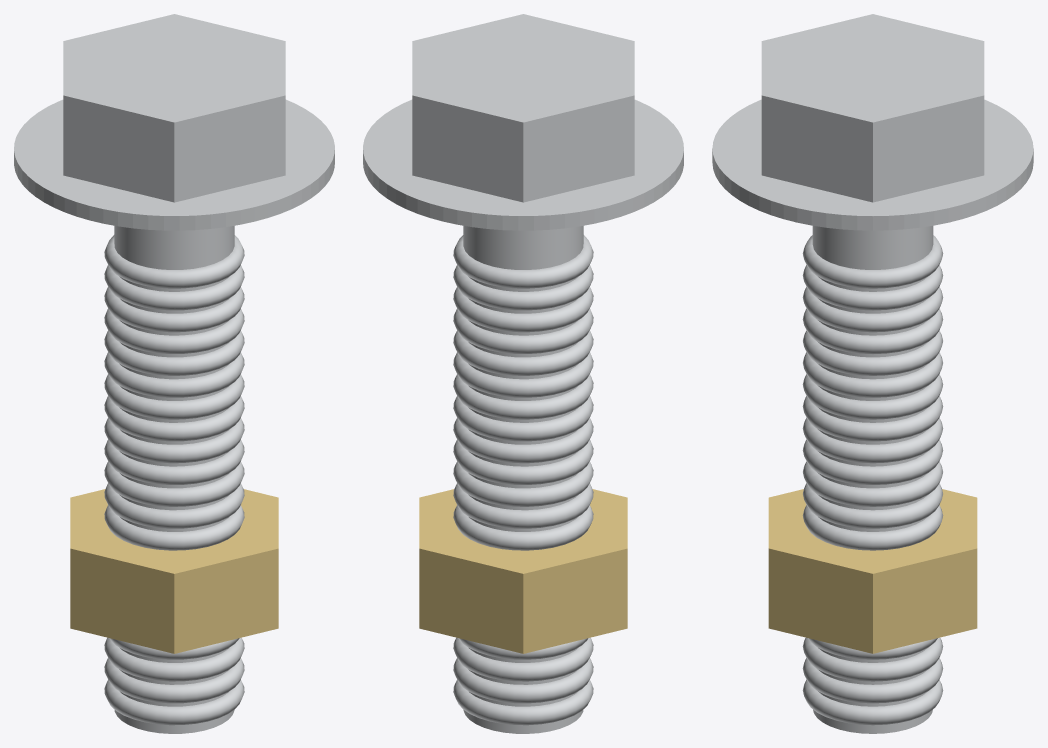
The model's file is tornillo_hexagonal.glb.
3 views of the same model, side by side, from view 1: azimuth 30°, elevation 25°; view 2: azimuth 150°, elevation 25°; view 3: azimuth 270°, elevation 25° (orthographic).
Parts seen in each view (by area): view 1: tornillo, tuerca, arandela; view 2: tornillo, tuerca, arandela; view 3: tornillo, tuerca, arandela.
Part boxes in pixels (bbox=[...]): tornillo: bbox=[63, 14, 285, 733]; tuerca: bbox=[70, 489, 278, 653]; arandela: bbox=[14, 99, 334, 230]; tornillo: bbox=[412, 14, 634, 733]; tuerca: bbox=[419, 489, 627, 653]; arandela: bbox=[363, 99, 683, 230]; tornillo: bbox=[761, 14, 984, 733]; tuerca: bbox=[768, 489, 977, 653]; arandela: bbox=[712, 99, 1033, 230].
Size of the model in its own units: 0.8 by 1.76 by 0.8.
